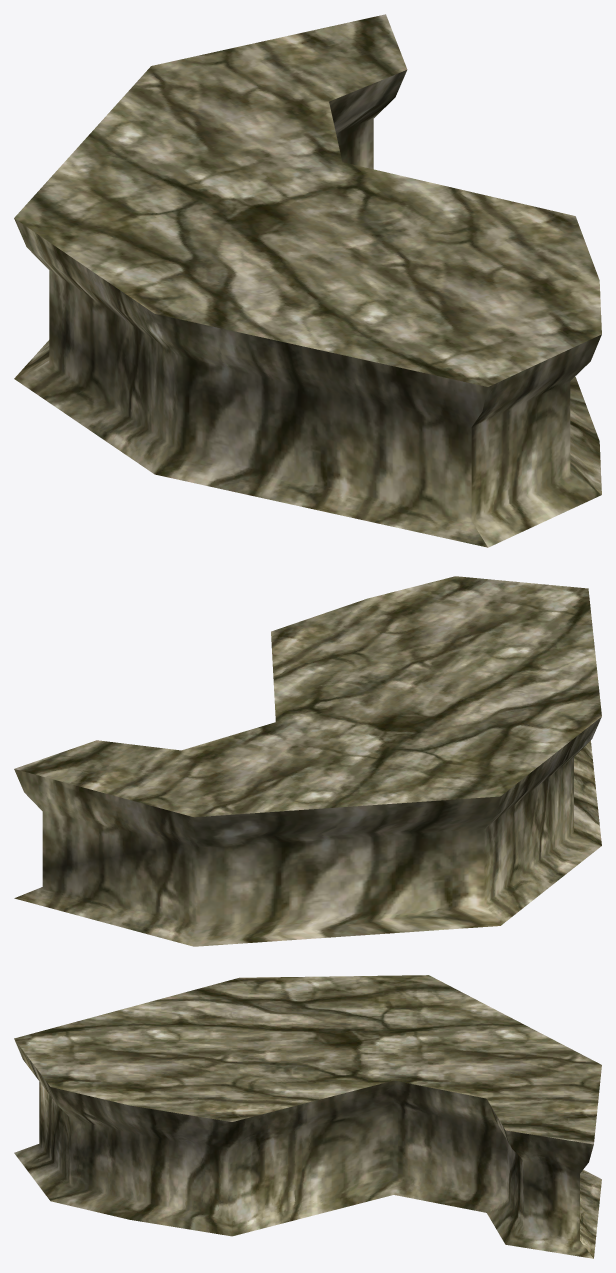
The model's file is CB_NEWPLAYSURFACE_CB_PLAYSURFACE135.fbx.
The picture shows the model from 3 angles, top to bottom: view 1: azimuth 30°, elevation 25°; view 2: azimuth 150°, elevation 25°; view 3: azimuth 270°, elevation 25°; orthographic projection. The views are drawn at different scales.
Visible parts, largest first — view 1: CB_NEWPLAYSURFACE_CB_PLAYSURFACE135; view 2: CB_NEWPLAYSURFACE_CB_PLAYSURFACE135; view 3: CB_NEWPLAYSURFACE_CB_PLAYSURFACE135.
Boxes of the visible parts, bbox=[...] form: CB_NEWPLAYSURFACE_CB_PLAYSURFACE135: bbox=[14, 14, 601, 547]; CB_NEWPLAYSURFACE_CB_PLAYSURFACE135: bbox=[14, 576, 601, 946]; CB_NEWPLAYSURFACE_CB_PLAYSURFACE135: bbox=[14, 975, 601, 1258].
Bounding box in the file's own units: 95331 × 30000 × 139835.
Materials: 2 (2 with a texture image).
